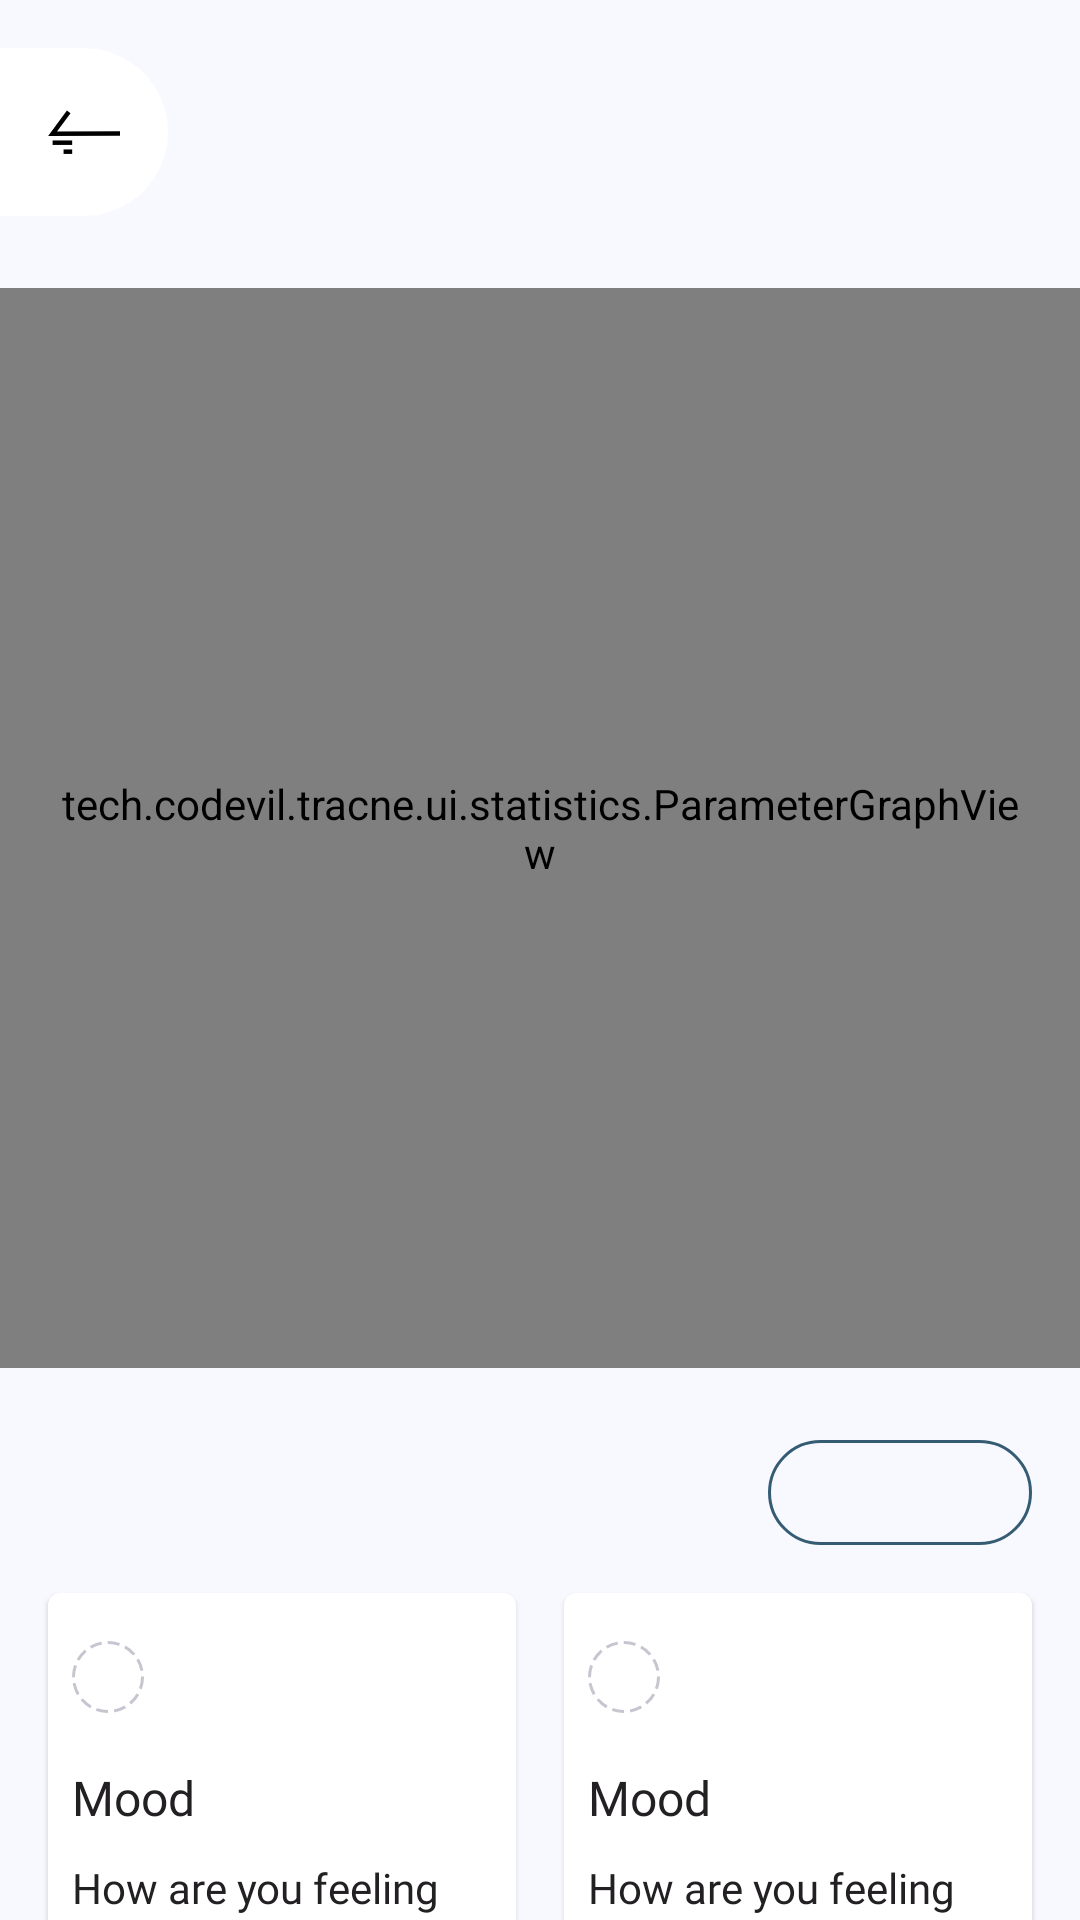

Where icons sit on this 1080×1920 app screen, as rect(x1, y1, x2, y2):
back: rect(48, 110, 120, 154)
circle hollow: rect(72, 1641, 144, 1713), rect(588, 1641, 660, 1713)
